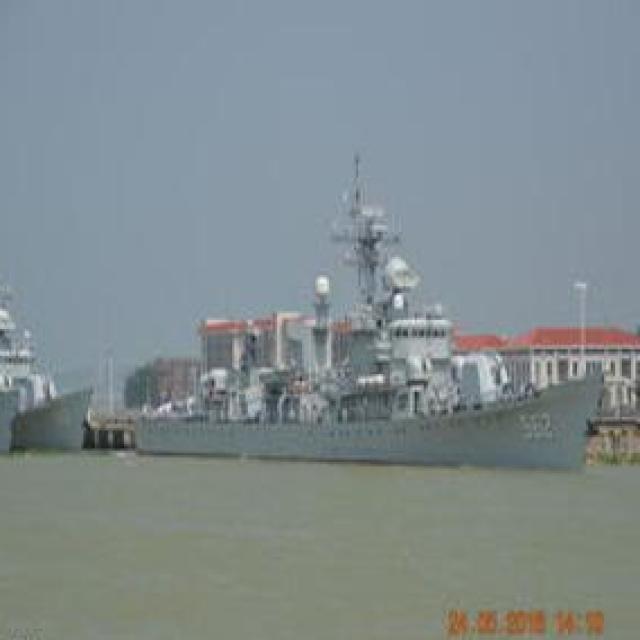navalvessels: (132, 188, 610, 479)
